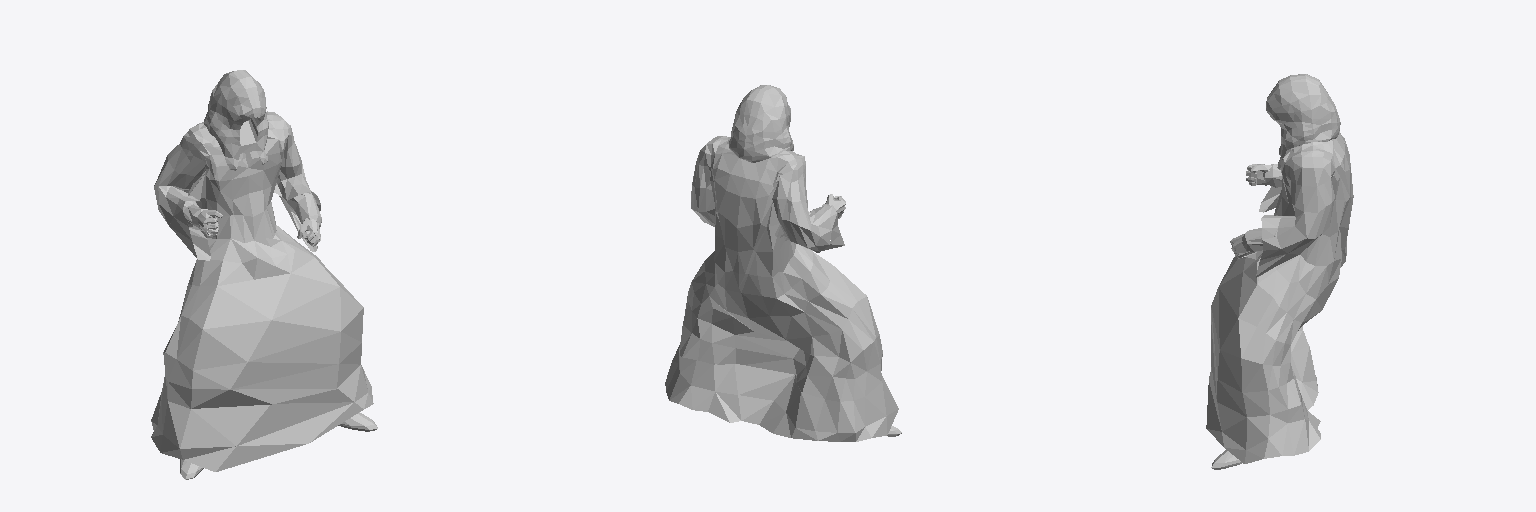
File: Rider_Animate_Grab_Glide_34.obj
The picture shows the model from 3 angles: view 1: azimuth 30°, elevation 25°; view 2: azimuth 150°, elevation 25°; view 3: azimuth 270°, elevation 25°; orthographic projection.
Parts seen in each view (by area): view 1: dm_nazgulrobe_ride_241108; view 2: dm_nazgulrobe_ride_241108; view 3: dm_nazgulrobe_ride_241108.
Boxes of the visible parts, x1,y1,x2,y2 form: dm_nazgulrobe_ride_241108: [151, 70, 377, 479]; dm_nazgulrobe_ride_241108: [665, 85, 901, 441]; dm_nazgulrobe_ride_241108: [1206, 74, 1353, 469].
Size of the model in its own units: 0.4206 by 0.6641 by 0.2495.